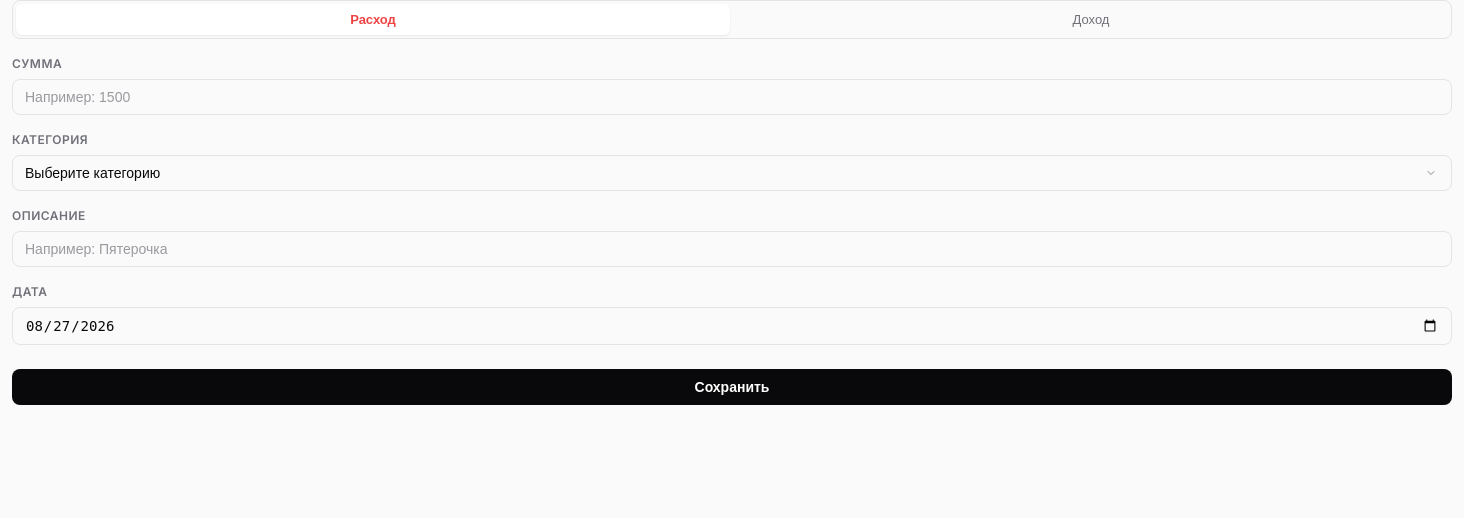
Test case: Компонент CreateTransactionForm › показывает ошибки с пустыми полями при отправке формы
Clear the date field labelled "Дата" at [732, 326], box [12, 307, 1452, 345]
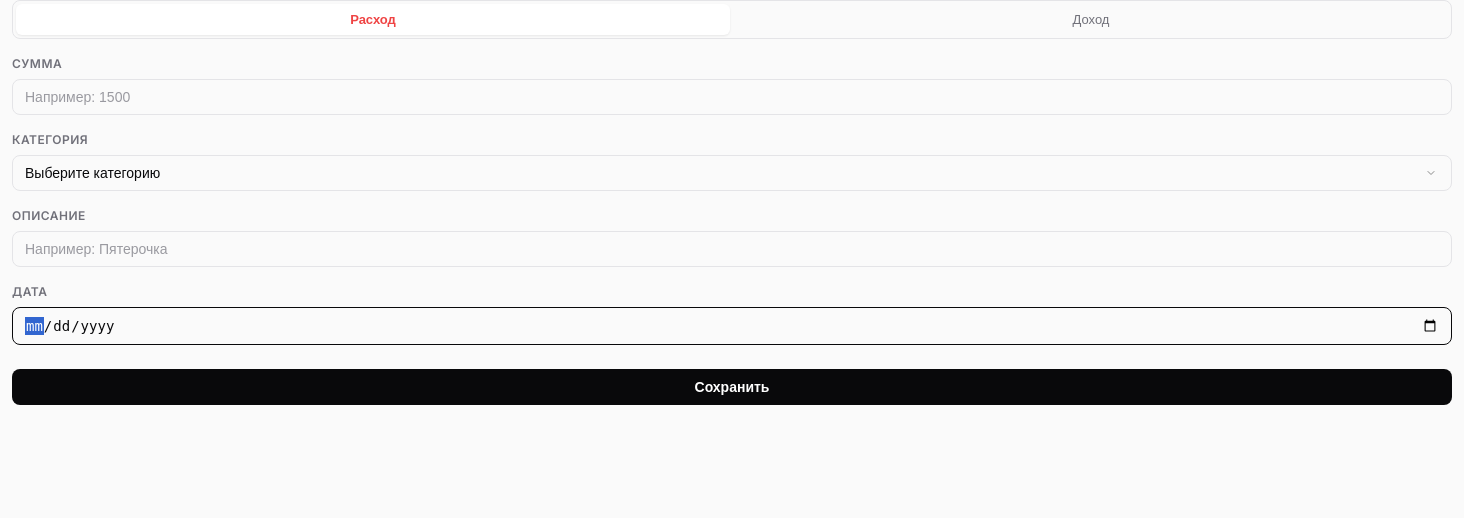
Click the button "Сохранить" at [732, 387], box [12, 369, 1452, 405]
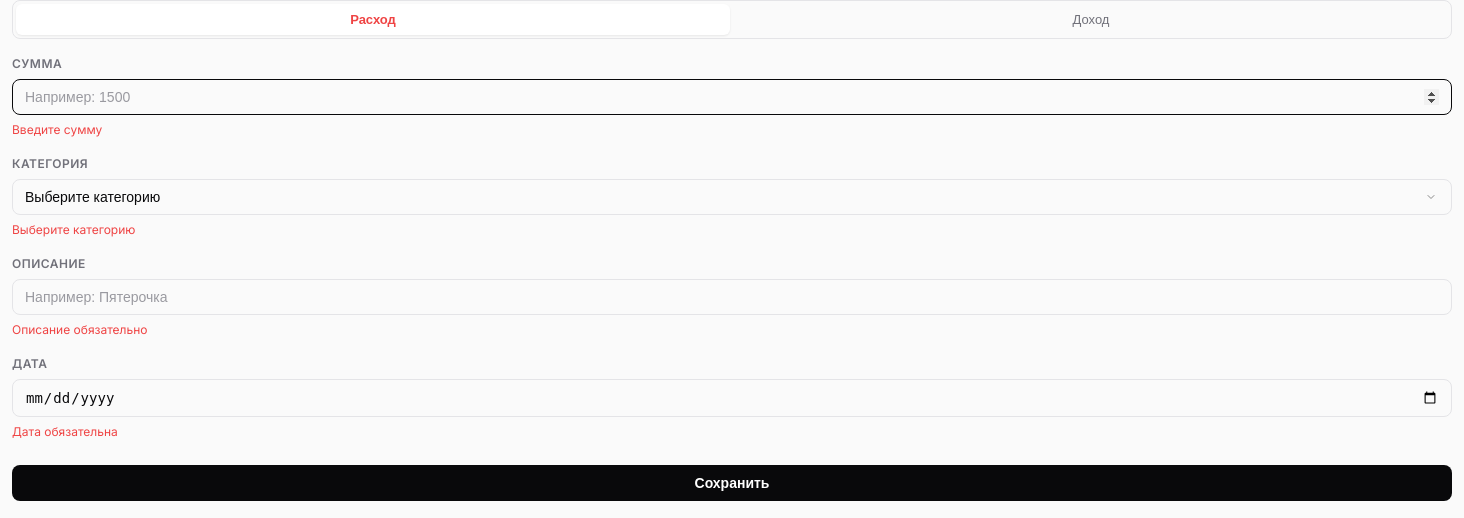
Expected: the text "Введите сумму" is shown, [12, 122, 102, 137]
Expected: the text "Описание обязательно" is shown, [12, 322, 148, 337]
Expected: the text "Дата обязательна" is shown, [12, 424, 118, 439]
